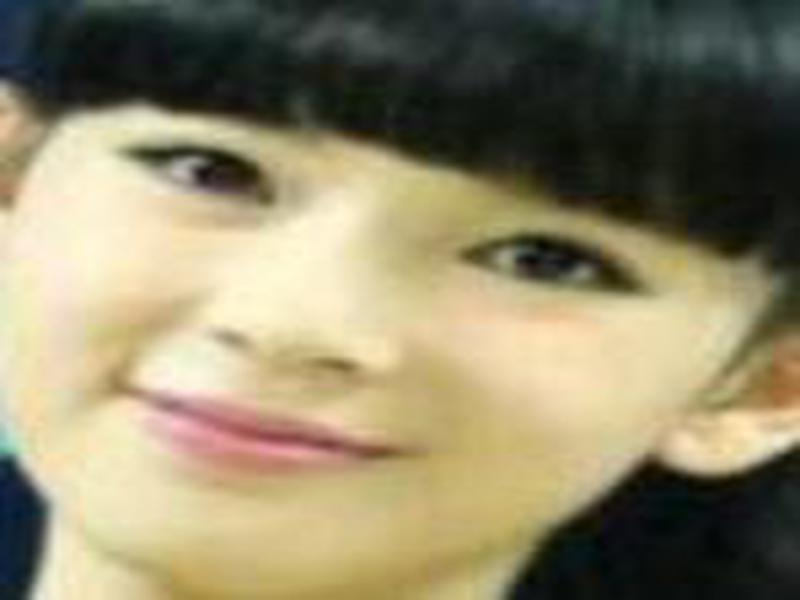without_mask: (4, 67, 793, 589)
